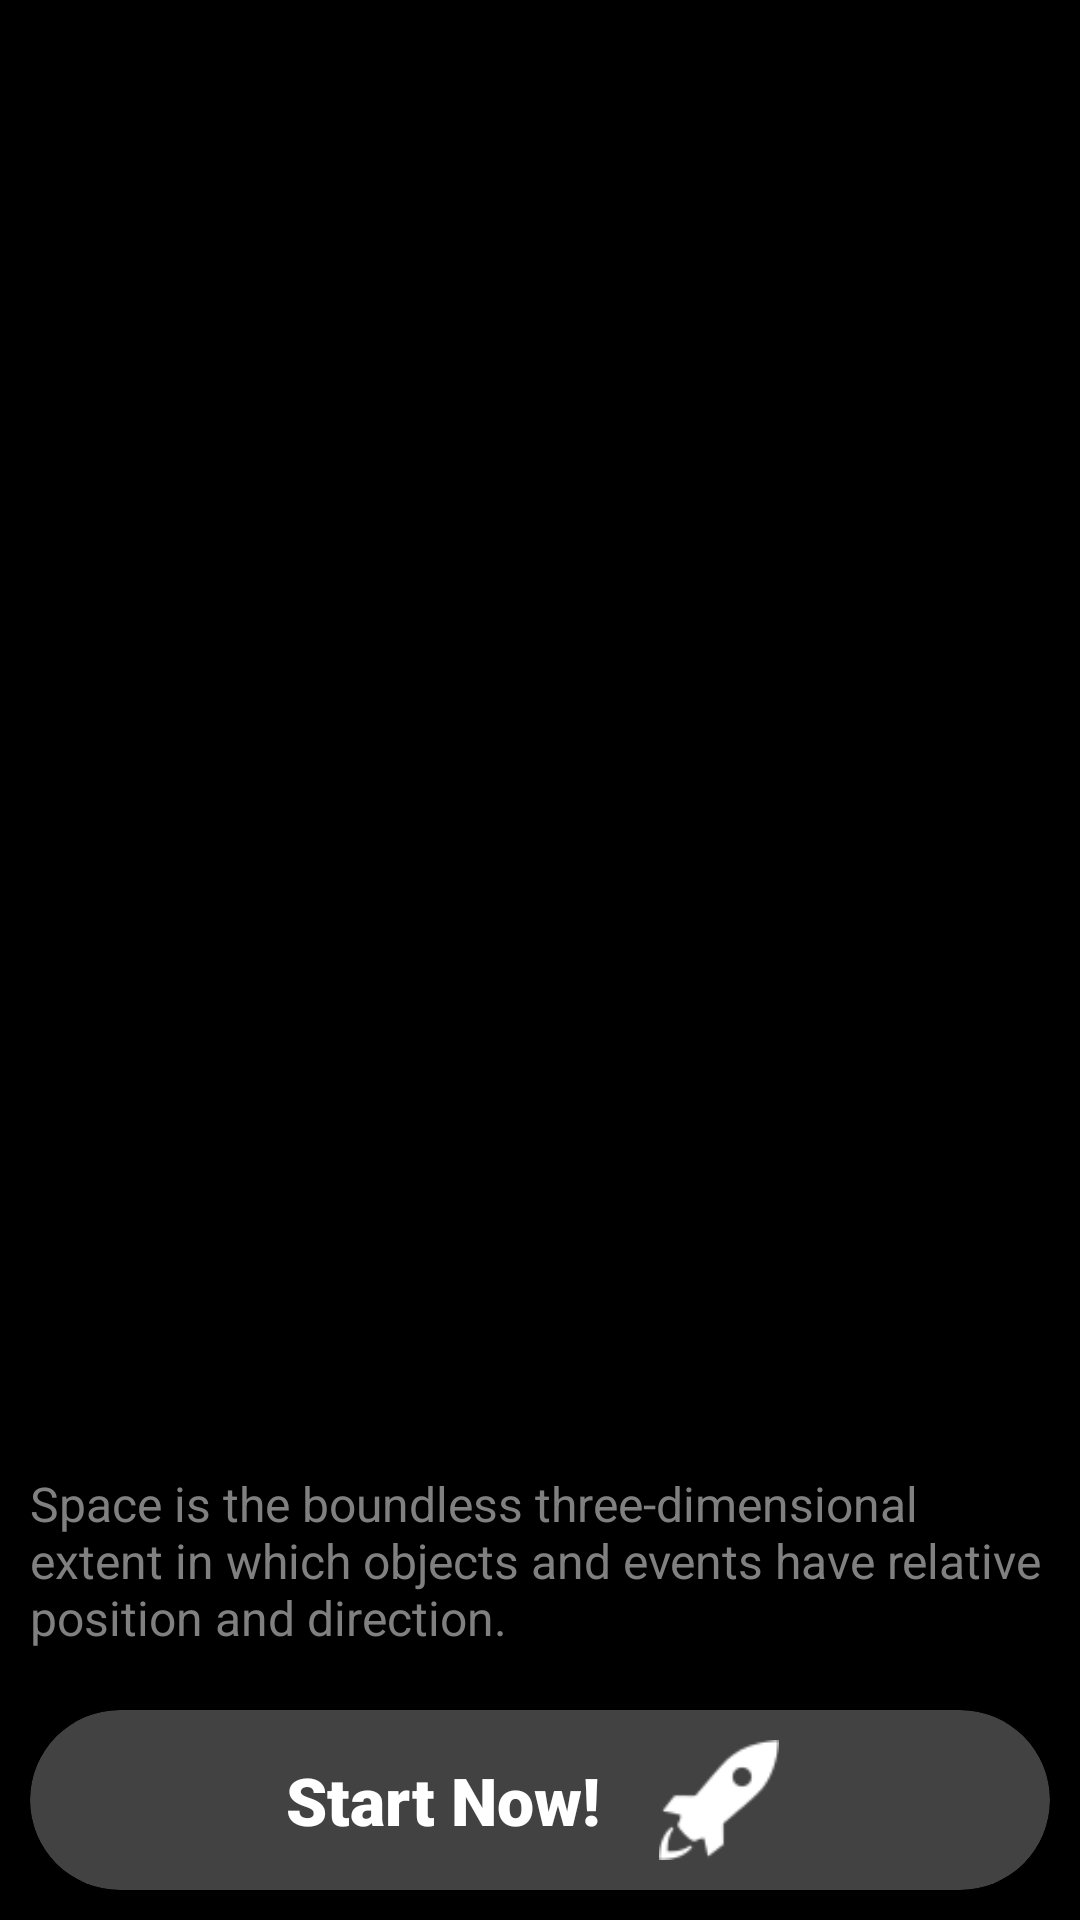

Icons on this 1080 x 1920 Android screen, each with the point to tap as (x,y):
rocket: (719,1800)
